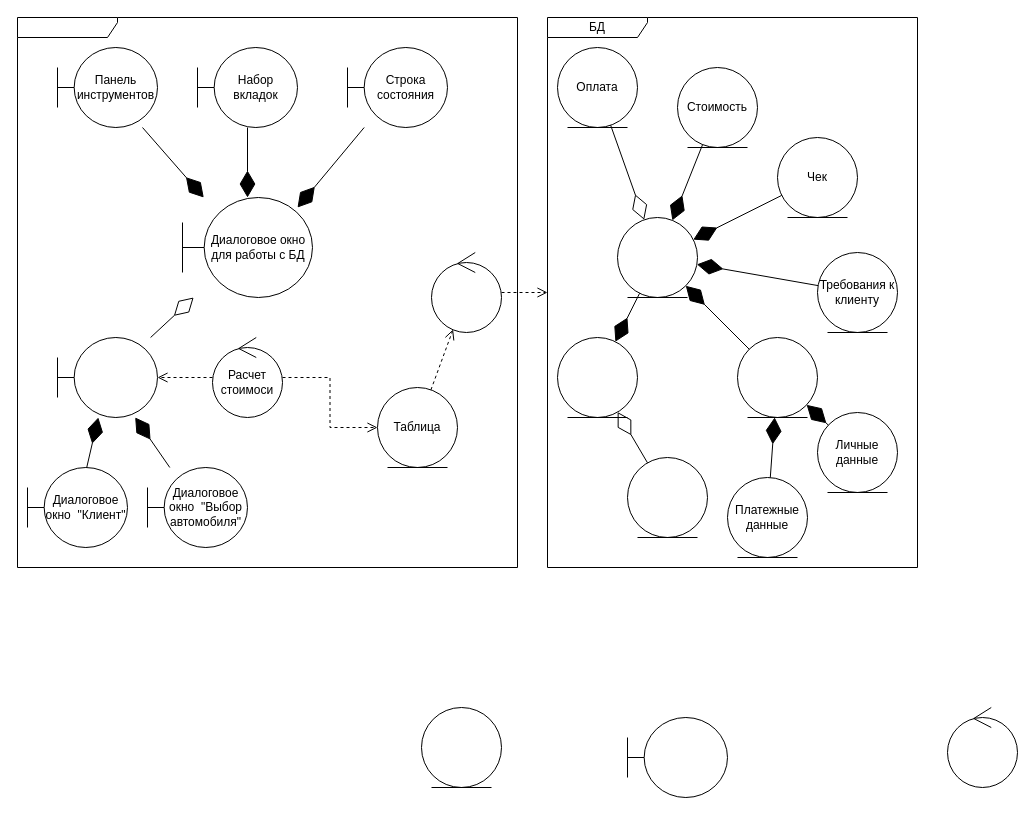
This 1035x815 diagram has some shape labels left out. Here are the shapes that lost their labels. From the top down, the box of each, then its label:
(616, 216, 698, 298): Продажа автомобиля
(16, 16, 518, 568): Клиентское по
(430, 252, 502, 332): Соединение с БД
(56, 336, 158, 418): Диалоговое окно "Продажа"
(556, 336, 638, 418): Купленный автомобиль
(736, 336, 818, 418): Данные клиента
(626, 456, 708, 538): Информация об автомобиле
